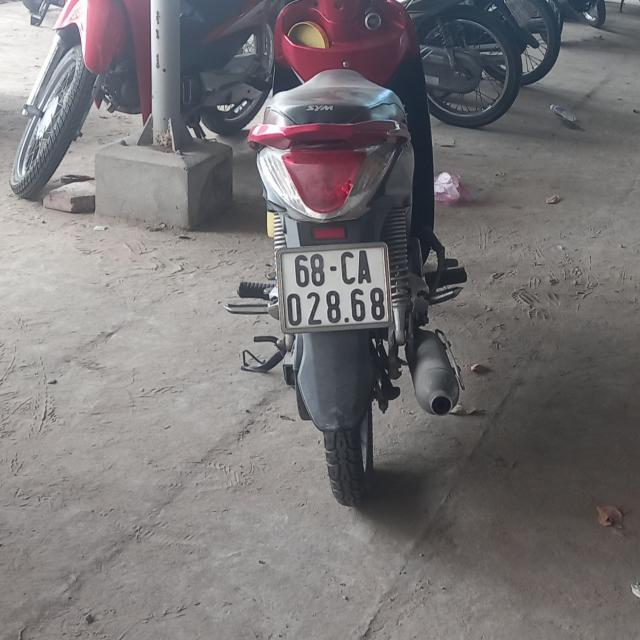0: (286, 293, 301, 325)
2: (307, 292, 322, 324)
6: (350, 288, 366, 321), (295, 254, 309, 286)
8: (325, 290, 342, 324), (370, 287, 385, 320), (310, 254, 325, 286)
A: (358, 250, 371, 283)
C: (341, 251, 355, 285)
